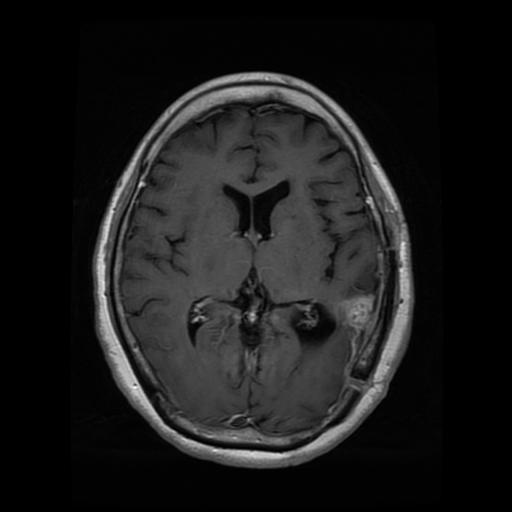Gliomia_tumour: (338, 293, 371, 358)
